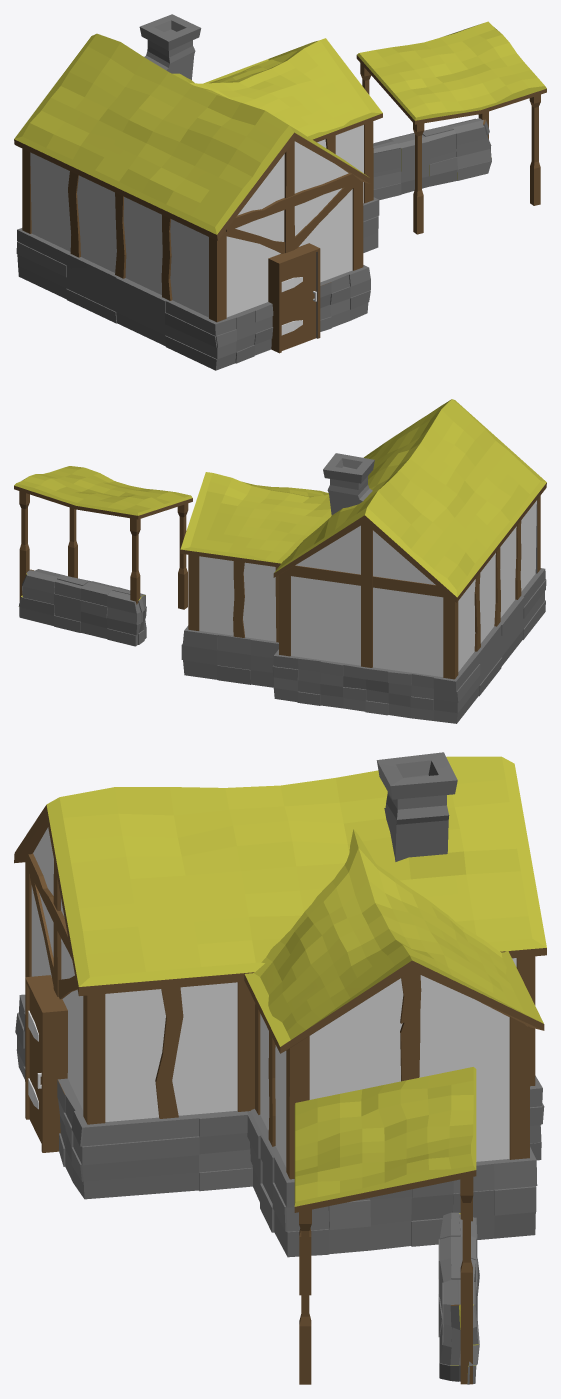
Rendered from huisje 2.fbx.
The picture shows the model from 3 angles, top to bottom: view 1: azimuth 30°, elevation 25°; view 2: azimuth 150°, elevation 25°; view 3: azimuth 270°, elevation 25°; orthographic projection. The views are drawn at different scales.
Parts seen in each view (by area): view 1: Farmhouse.001, Cube; view 2: Farmhouse.001, Cube; view 3: Farmhouse.001, Cube.
Part boxes in pixels (bbox=[...]): Farmhouse.001: bbox=[14, 14, 382, 370]; Cube: bbox=[356, 21, 546, 234]; Farmhouse.001: bbox=[180, 399, 546, 723]; Cube: bbox=[14, 466, 192, 646]; Farmhouse.001: bbox=[14, 752, 546, 1257]; Cube: bbox=[294, 1067, 479, 1384].
Size of the model in its own units: 1514 by 706 by 943.
